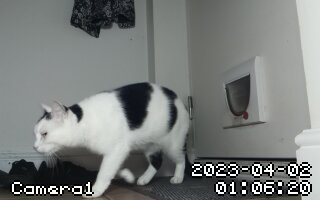bad: (28, 83, 195, 195)
